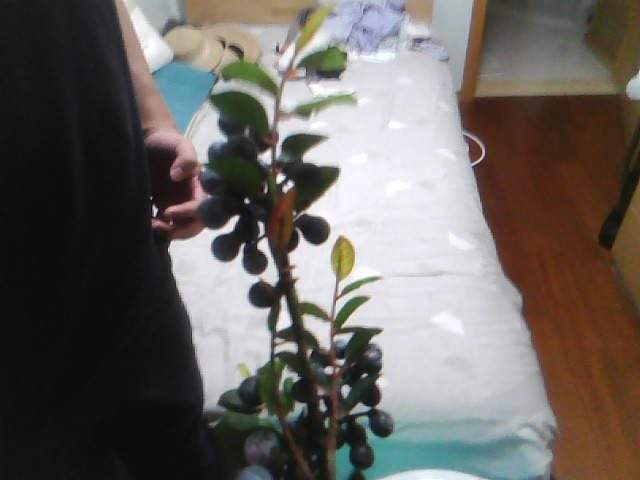blueberry: (165, 194, 204, 226), (294, 207, 333, 237), (302, 212, 334, 242), (167, 150, 201, 178), (238, 278, 276, 303), (240, 243, 271, 273), (345, 443, 377, 470), (240, 247, 274, 269), (206, 232, 233, 258)
